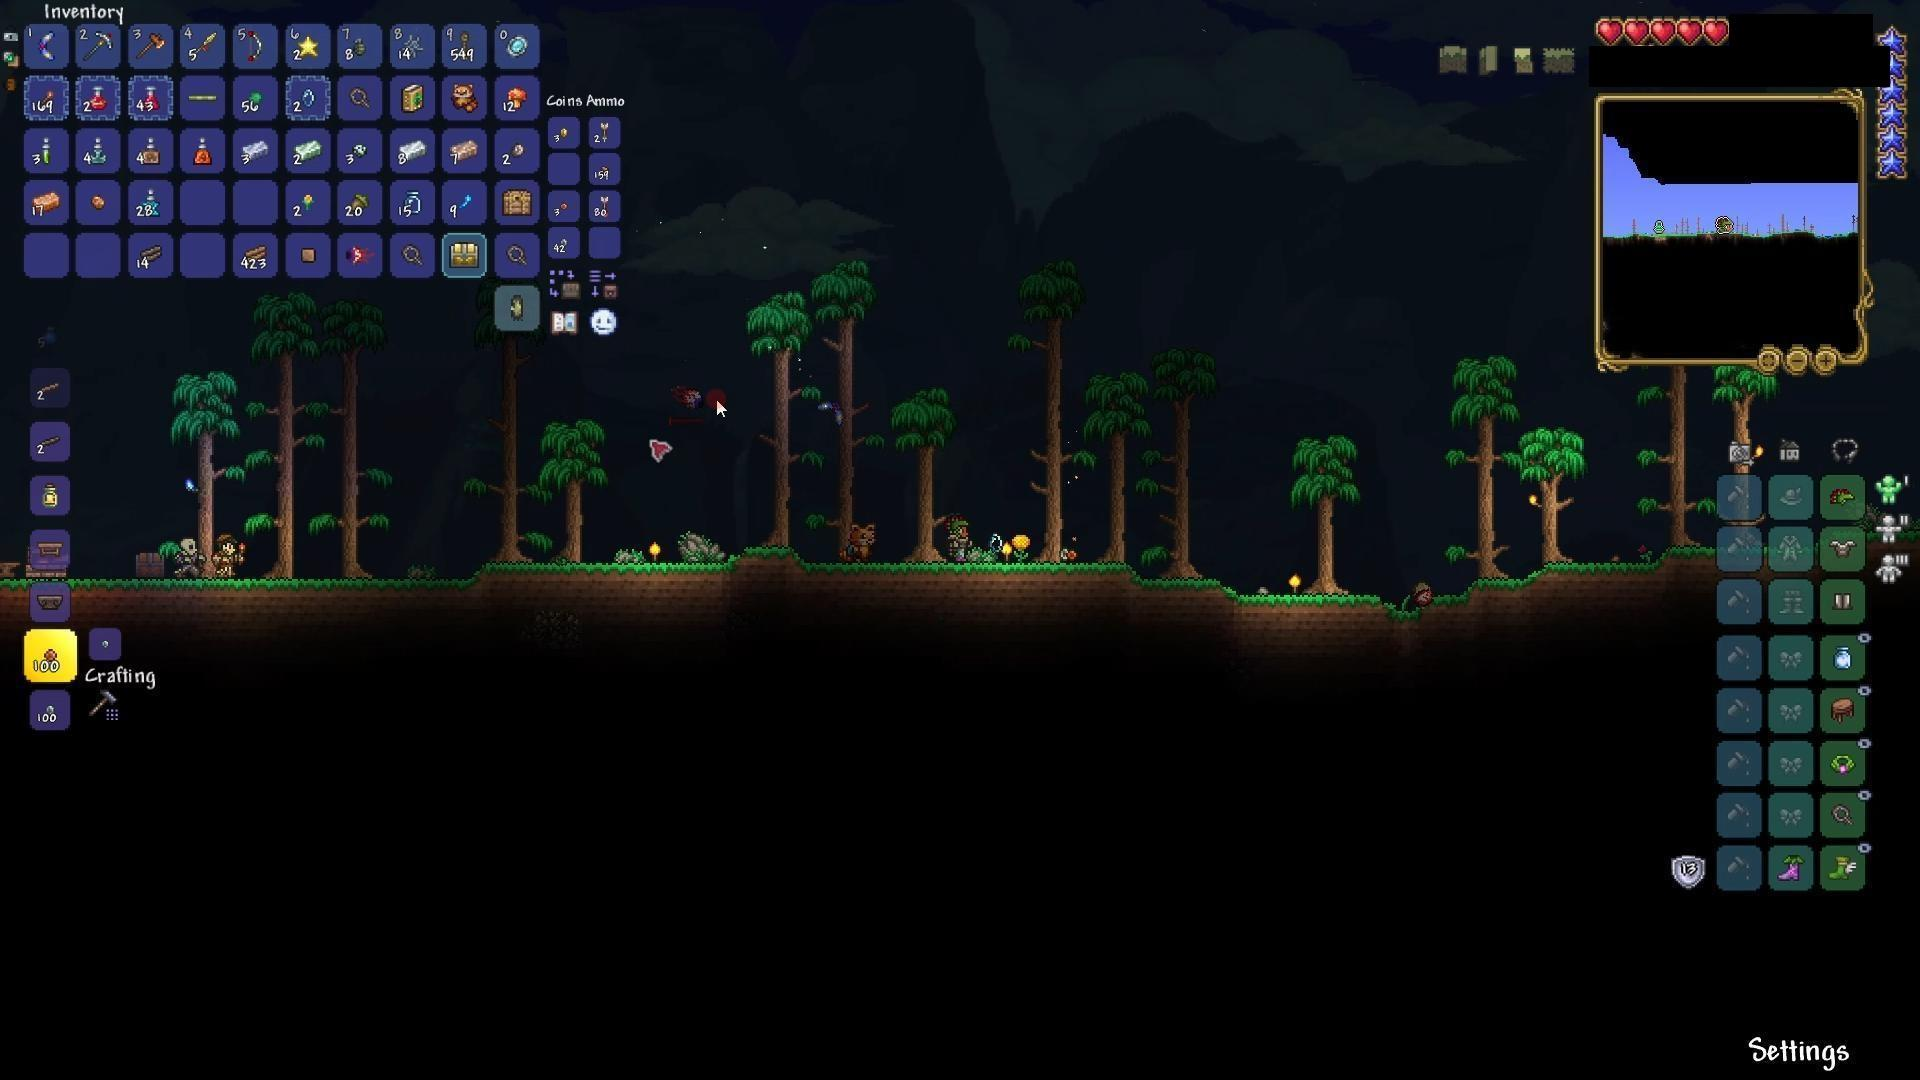dirt: (789, 558, 1139, 615), (76, 568, 475, 605), (458, 556, 725, 604), (1465, 556, 1658, 592), (1201, 589, 1391, 622), (1118, 574, 1236, 621), (725, 538, 810, 587), (1382, 588, 1468, 624), (1655, 539, 1714, 579)
heart: (1702, 17, 1733, 51), (1593, 16, 1626, 46), (1676, 15, 1704, 50), (1650, 16, 1676, 49), (1625, 15, 1651, 44)
tree: (319, 294, 393, 583), (1145, 345, 1228, 588), (822, 247, 880, 570), (1011, 258, 1072, 564), (746, 285, 814, 553), (1451, 340, 1513, 582), (1516, 417, 1604, 575), (255, 293, 301, 580), (898, 385, 965, 570), (167, 365, 225, 568), (1098, 357, 1154, 564), (1647, 368, 1705, 549), (1295, 435, 1346, 597)
